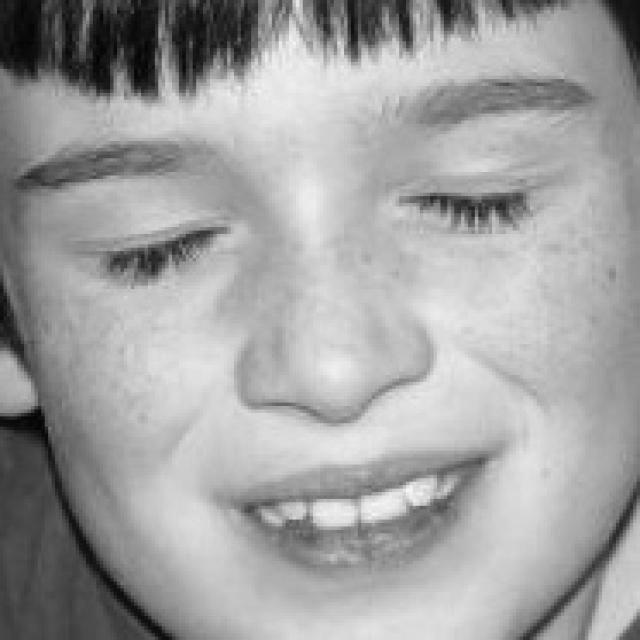real: (0, 0, 606, 609), (78, 135, 558, 306)
